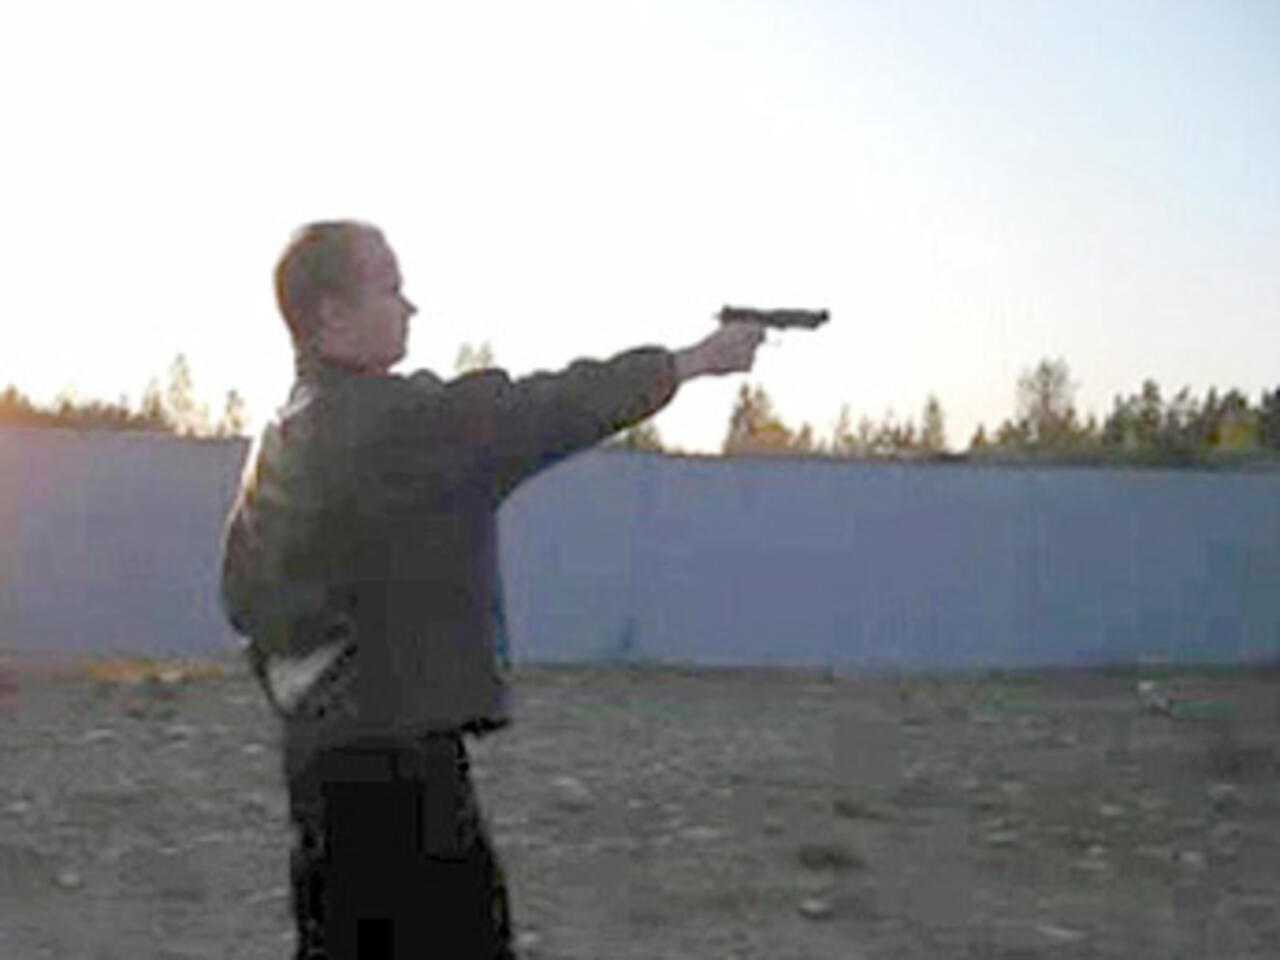Asalto: (723, 310, 827, 326)
